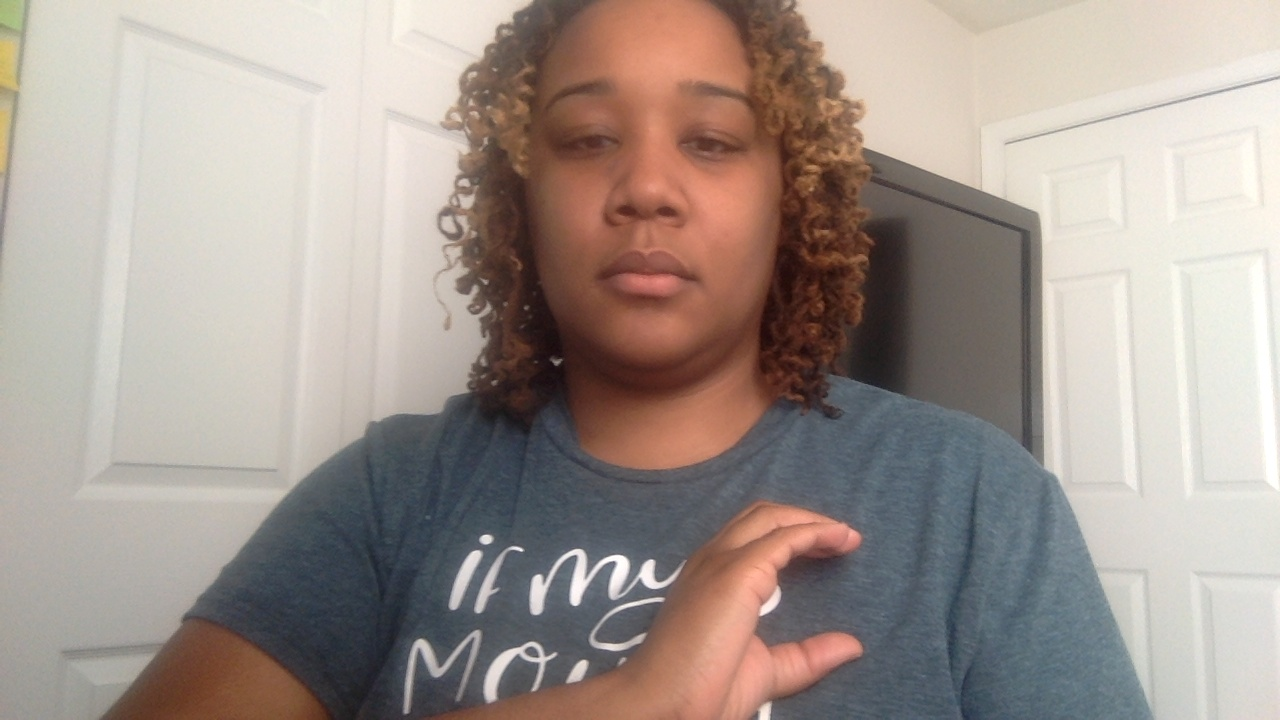police: (556, 371, 935, 720)
